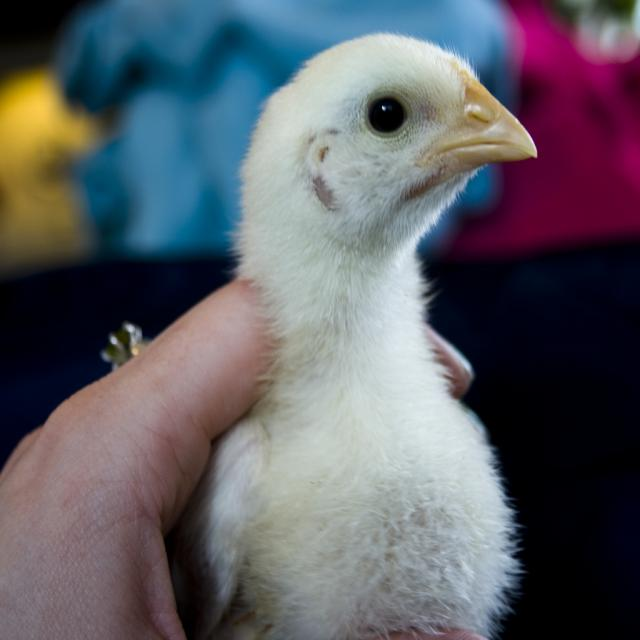Chicken: (166, 16, 536, 626)
